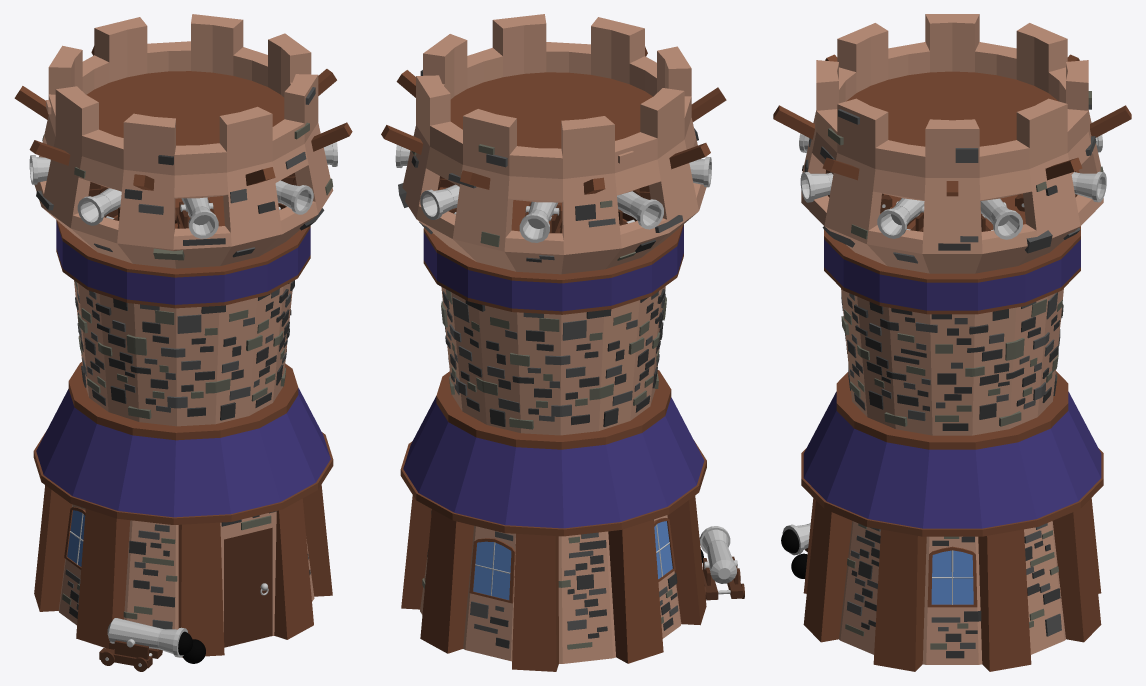
The model's file is Shotgun Tower.fbx.
3 renders of one model, left to right at view 1: azimuth 30°, elevation 25°; view 2: azimuth 150°, elevation 25°; view 3: azimuth 270°, elevation 25°, orthographic. The views are drawn at different scales.
Parts seen in each view (by area): view 1: Основание; view 2: Основание; view 3: Основание.
Boxes of the visible parts, bbox=[...] form: Основание: bbox=[14, 14, 352, 671]; Основание: bbox=[381, 14, 744, 671]; Основание: bbox=[773, 14, 1131, 671].
Bounding box in the file's own units: 372 × 616 × 372.
